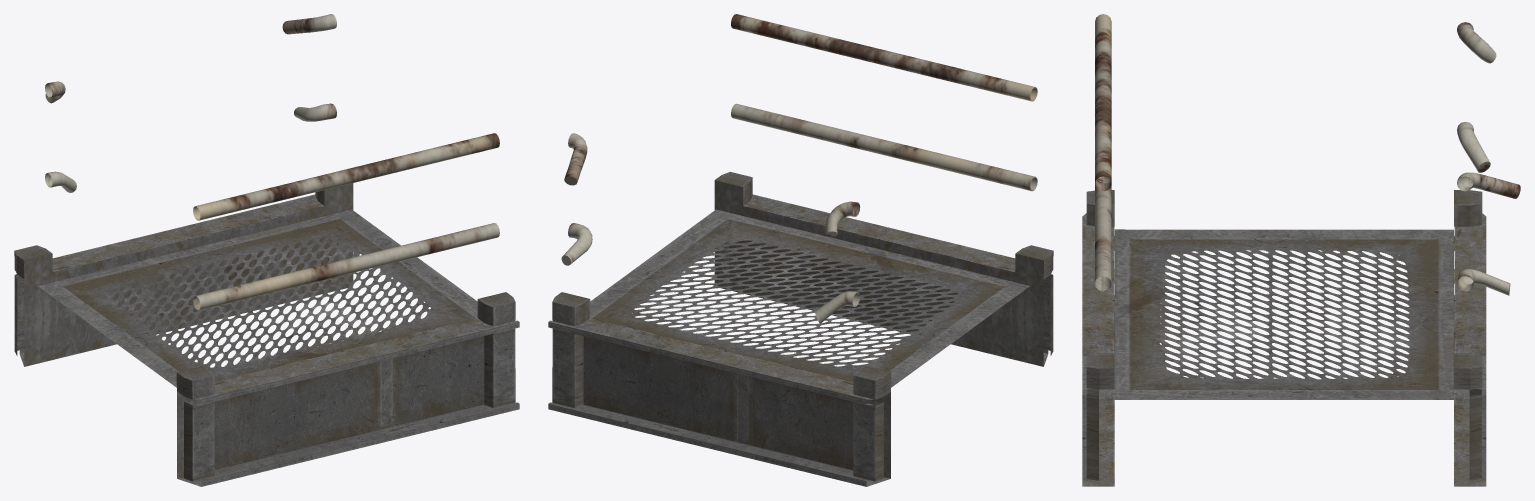
The model's file is upper_platform_broken_single.fbx.
3 renders of one model, left to right at view 1: azimuth 30°, elevation 25°; view 2: azimuth 150°, elevation 25°; view 3: azimuth 270°, elevation 25°, orthographic. The views are drawn at different scales.
Parts seen in each view (by area): view 1: upper_platform_broken_single; view 2: upper_platform_broken_single; view 3: upper_platform_broken_single.
Boxes of the visible parts, x1,y1,x2,y2 form: upper_platform_broken_single: [14, 14, 519, 486]; upper_platform_broken_single: [548, 14, 1053, 486]; upper_platform_broken_single: [1082, 14, 1520, 486].
Bounding box in the file's own units: 210 × 166 × 217.
